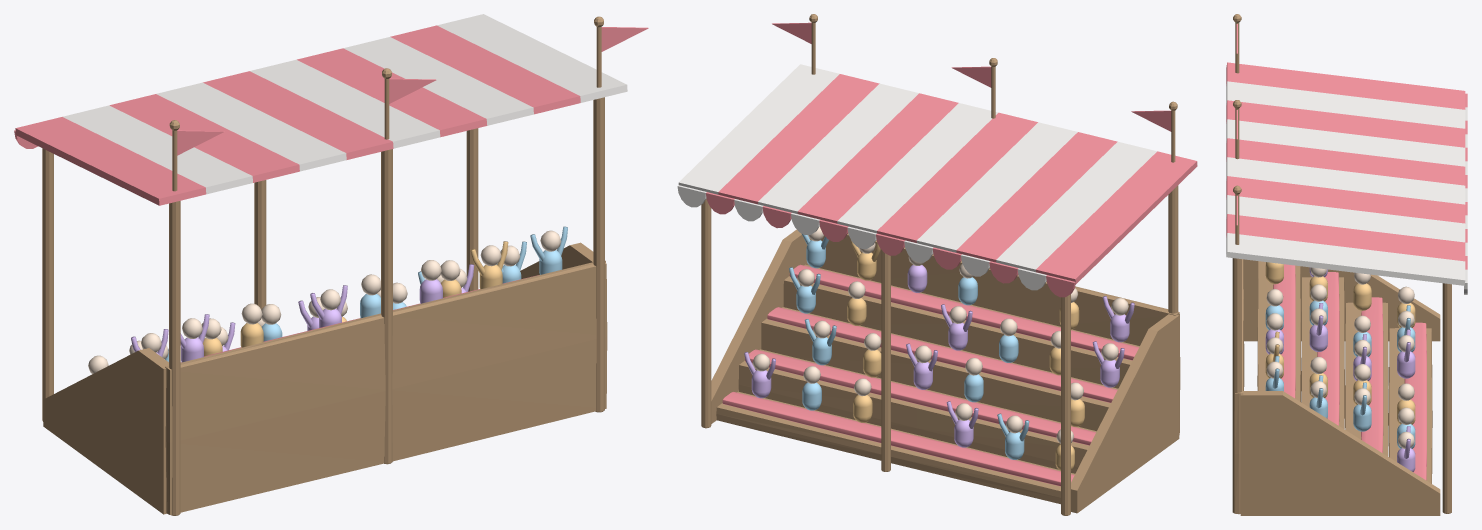
The model's file is PumpGrandstand.glb.
The picture shows the model from 3 angles, left to right: view 1: azimuth 30°, elevation 25°; view 2: azimuth 150°, elevation 25°; view 3: azimuth 270°, elevation 25°; orthographic projection. The views are drawn at different scales.
Visible parts, largest first — view 1: Frame, CanopyA, CanopyB, Heads, FansC, FansB, Flags, FansA; view 2: Frame, CanopyA, CanopyB, Seats, Heads, FansC, FansB, FansA, Flags; view 3: Frame, CanopyB, CanopyA, Seats, Heads, FansB, FansA, FansC.
Part boxes in pixels (left/top/right/bottom): Frame: left=42, top=16, right=607, bottom=515; CanopyA: left=14, top=25, right=580, bottom=205; CanopyB: left=62, top=14, right=627, bottom=194; Heads: left=88, top=230, right=561, bottom=373; FansC: left=131, top=264, right=474, bottom=362; FansB: left=165, top=226, right=567, bottom=361; Flags: left=177, top=27, right=648, bottom=155; FansA: left=203, top=241, right=508, bottom=356; Frame: left=701, top=14, right=1180, bottom=515; CanopyA: left=706, top=74, right=1197, bottom=297; CanopyB: left=677, top=64, right=1156, bottom=290; Seats: left=722, top=264, right=1138, bottom=486; Heads: left=752, top=226, right=1128, bottom=443; FansC: left=744, top=265, right=1134, bottom=447; FansB: left=789, top=233, right=1029, bottom=459; FansA: left=847, top=238, right=1084, bottom=471; Flags: left=772, top=22, right=1171, bottom=131; Frame: left=1232, top=14, right=1451, bottom=515; CanopyB: left=1226, top=81, right=1467, bottom=294; CanopyA: left=1226, top=62, right=1467, bottom=269; Seats: left=1273, top=264, right=1426, bottom=480; Heads: left=1266, top=267, right=1414, bottom=448; FansB: left=1265, top=300, right=1415, bottom=448; FansA: left=1265, top=262, right=1415, bottom=424; FansC: left=1265, top=267, right=1415, bottom=471.
Bounding box in the file's own units: 27.1 × 20.56 × 13.77.
